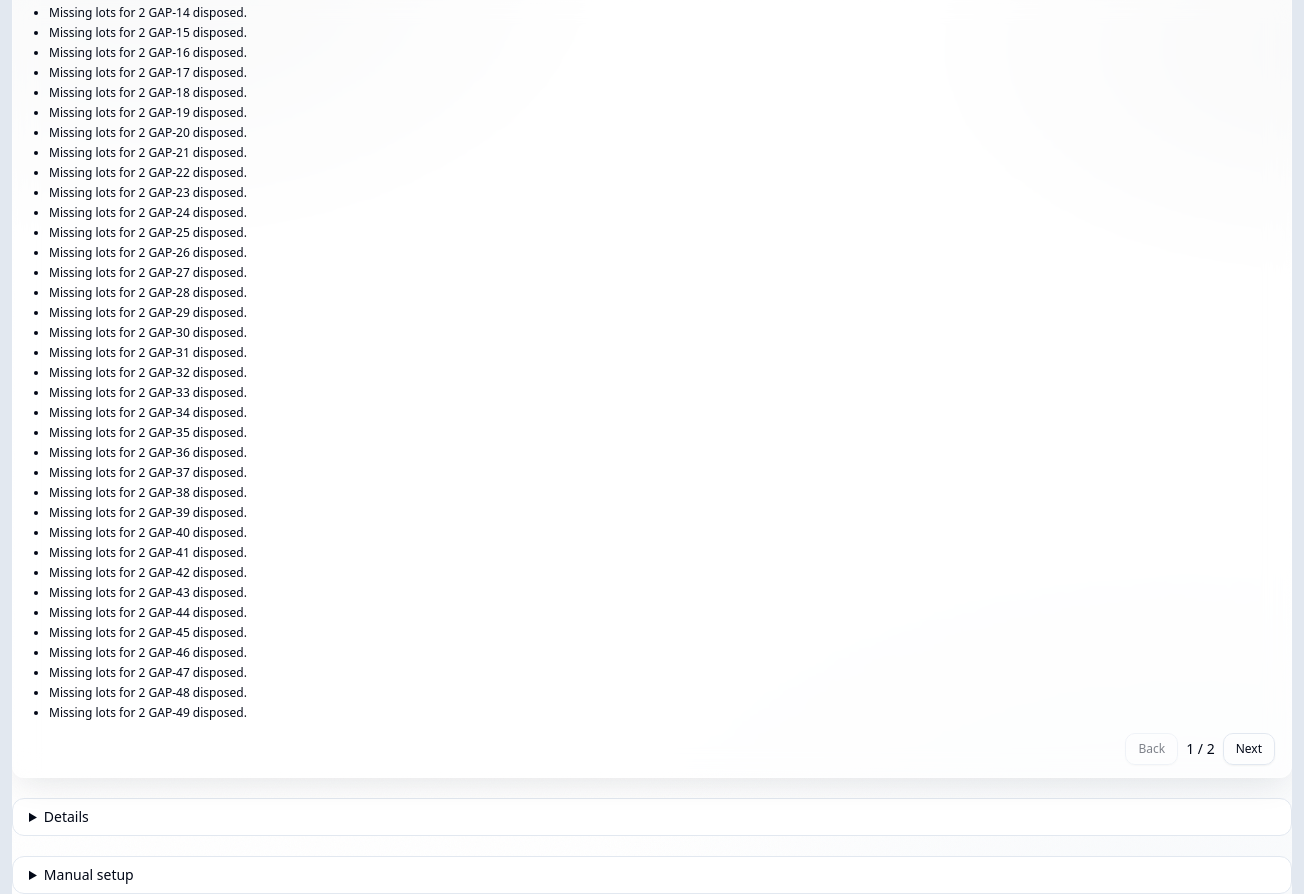
Test: pages warnings so a long history renders only the current page
(page scrolled)
Expected: the text "GAP-50" is not shown
Click the button with aria-label "Next page of Data gaps to review": (1249, 748) [1223,732,1275,764]
(page scrolled)
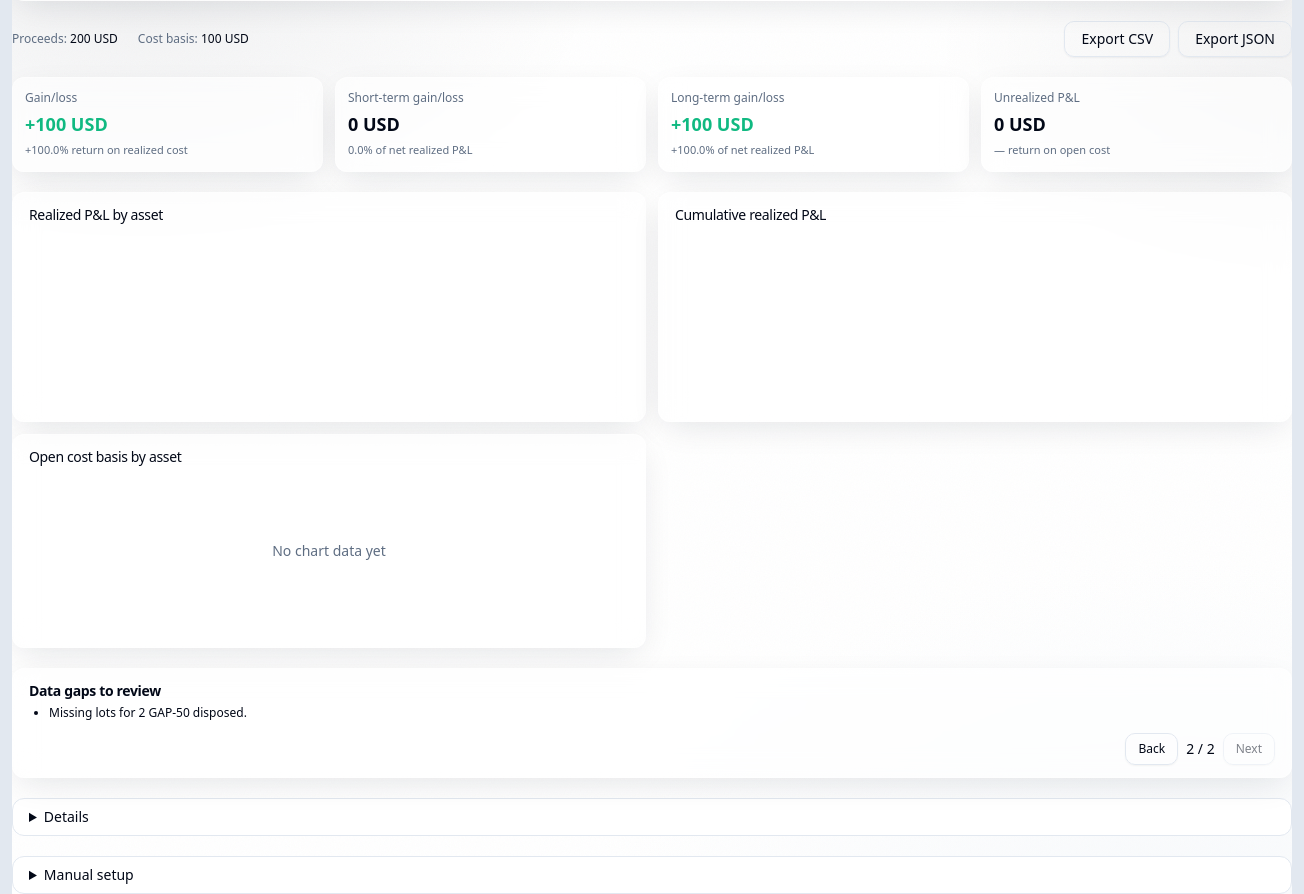
Result: the list item "Missing lots for 2 GAP-50 disposed." is shown at [49,704,247,720]
